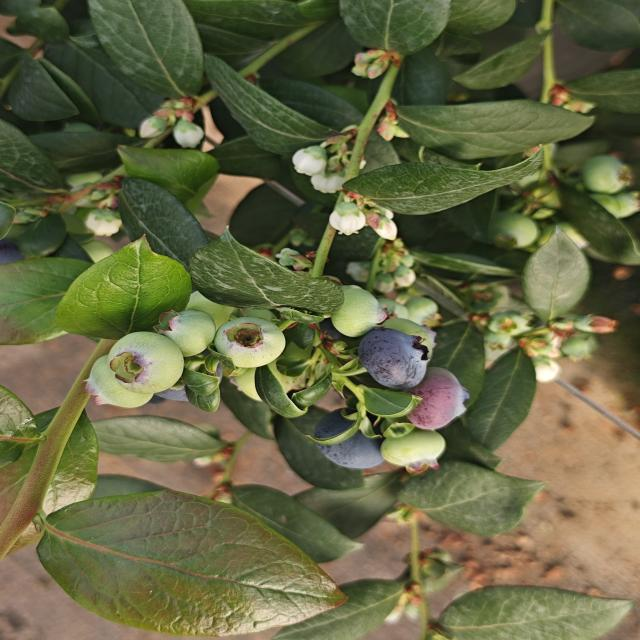ripe: (362, 330, 437, 380), (159, 352, 216, 410), (320, 418, 377, 470)
